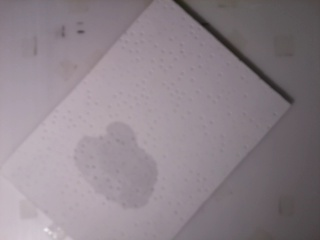Water_detected: (78, 131, 139, 192)
